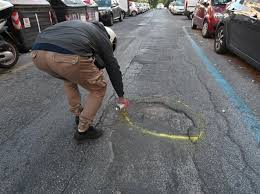pothole: (132, 96, 198, 138)
